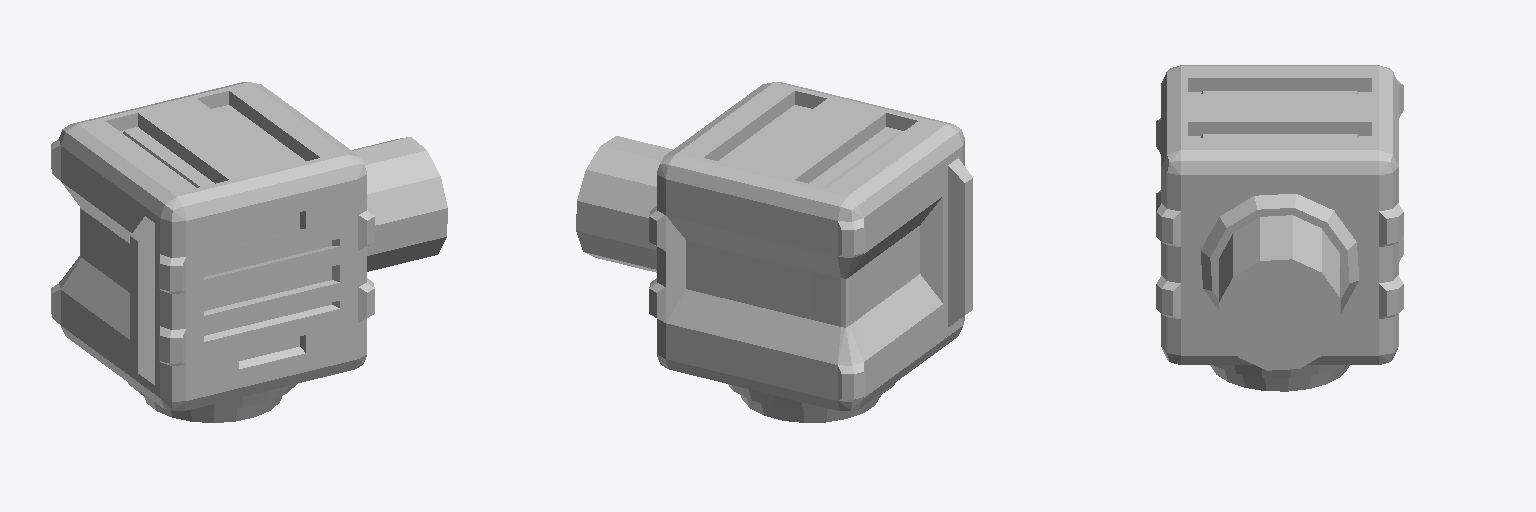
Rendered from arm_r_01.obj.
3 renders of one model, left to right at view 1: azimuth 30°, elevation 25°; view 2: azimuth 150°, elevation 25°; view 3: azimuth 270°, elevation 25°, orthographic.
Parts seen in each view (by area): view 1: arm_r_01_Cube.011; view 2: arm_r_01_Cube.011; view 3: arm_r_01_Cube.011.
Boxes of the visible parts, x1,y1,x2,y2 form: arm_r_01_Cube.011: [51, 82, 447, 422]; arm_r_01_Cube.011: [576, 82, 972, 422]; arm_r_01_Cube.011: [1156, 65, 1403, 391].
Size of the model in its own units: 0.4414 by 0.3324 by 0.2929.